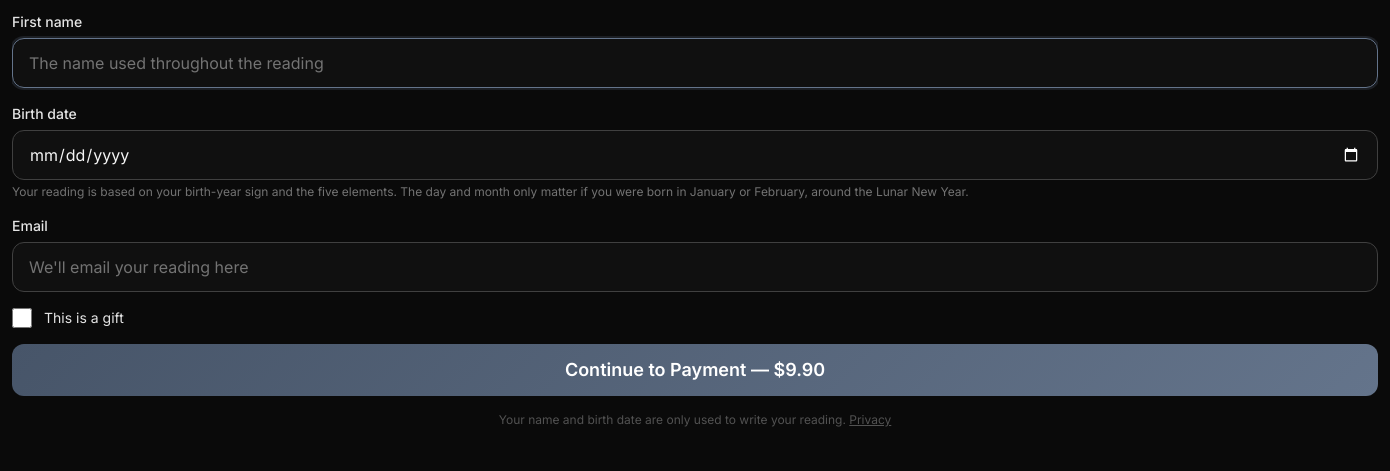
ReadingIntakeForm without a consent box › disables the pay button only while the checkout is being created
Type "Anna" into the field with id "reading-name".
click(695, 63); type("Anna")  # box [12,38,1378,88]
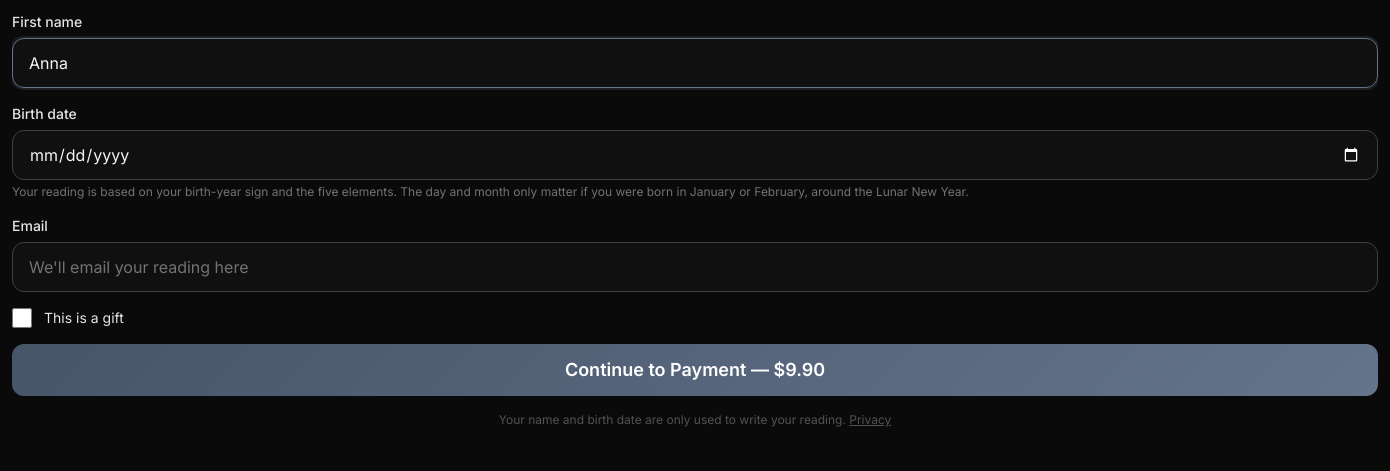
Type "1990-05-14" into the date field with id "reading-birthdate".
click(695, 155); type("1990-05-14")  # box [12,130,1378,180]
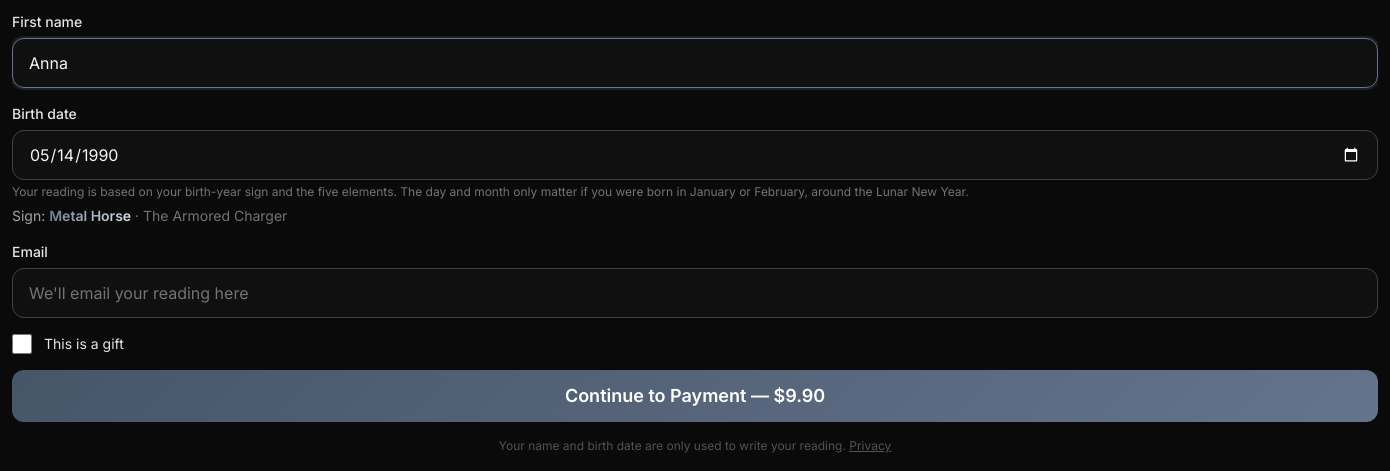
Type "anna@example.com" into the field with id "reading-email".
click(695, 293); type("anna@example.com")  # box [12,268,1378,318]
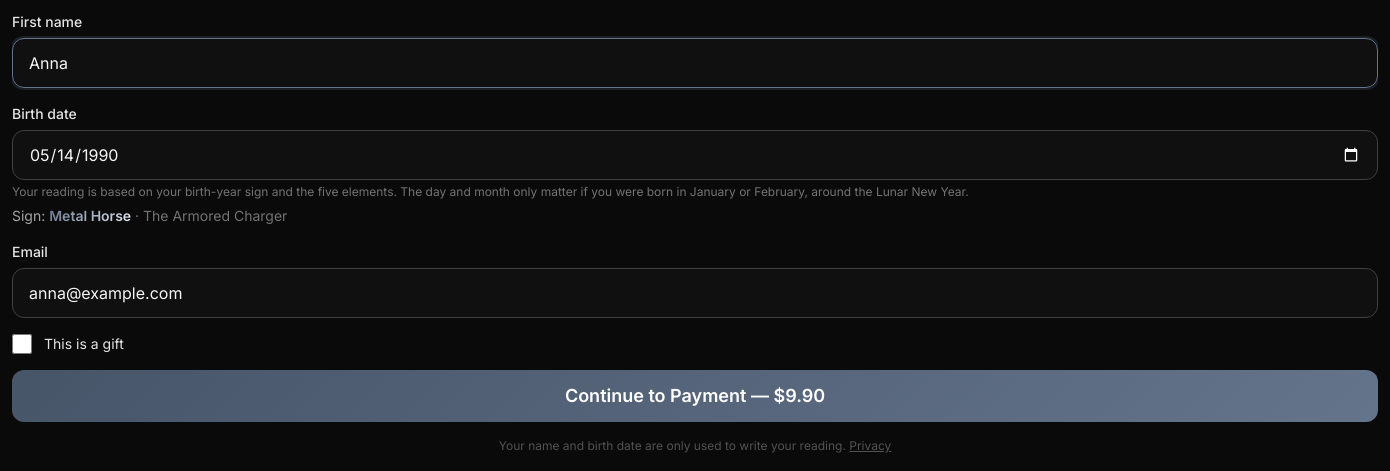
Submit the form
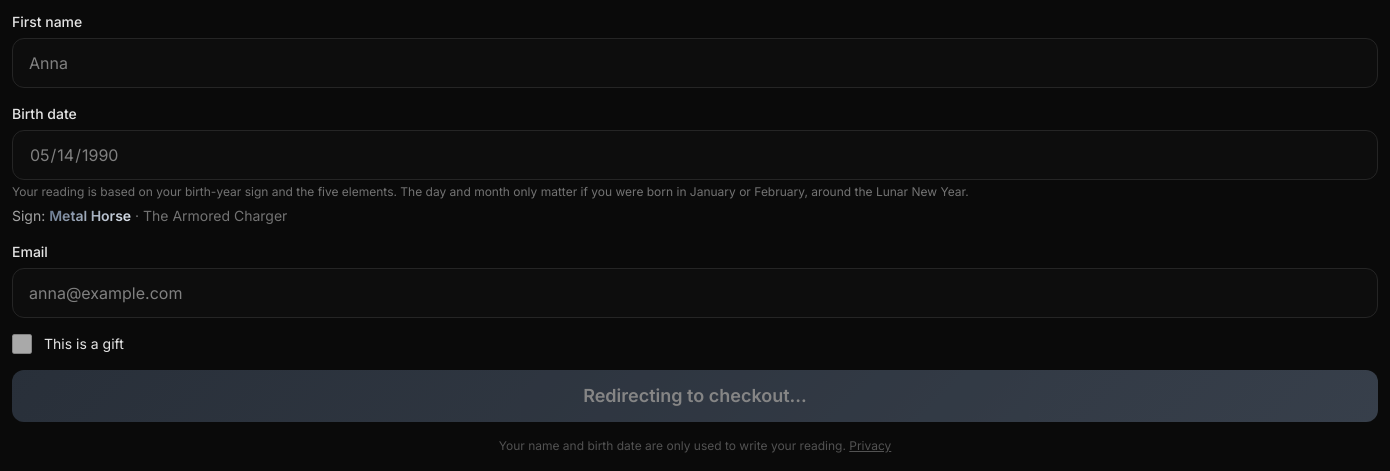
Expected: the submit button is disabled, [12,370,1378,422]
Expected: the submit button reads "Redirecting to checkout...", [12,370,1378,422]
